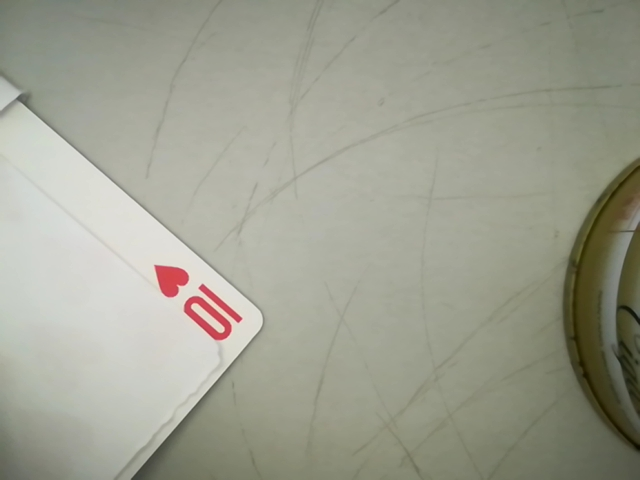hx 10: (145, 258, 252, 355)
